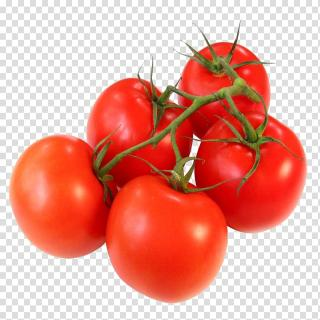Tomat: (106, 162, 229, 305), (195, 102, 308, 235), (9, 132, 118, 260), (176, 22, 273, 141)
